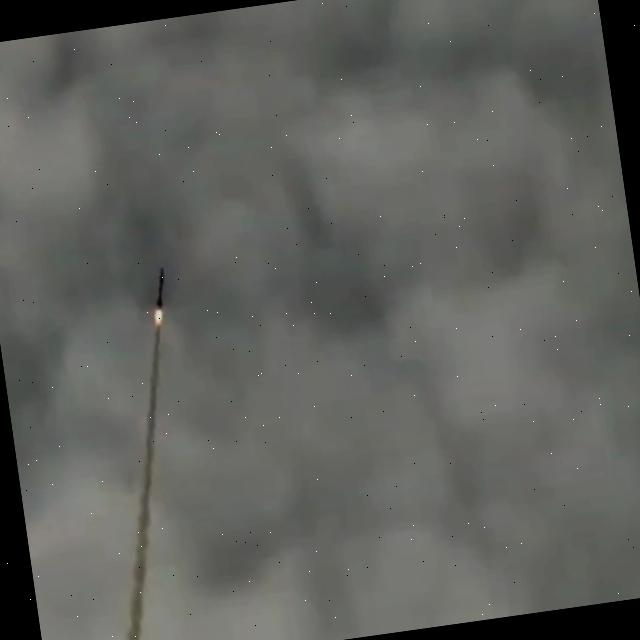smoke_trail_with_rocket: (125, 268, 166, 640)
